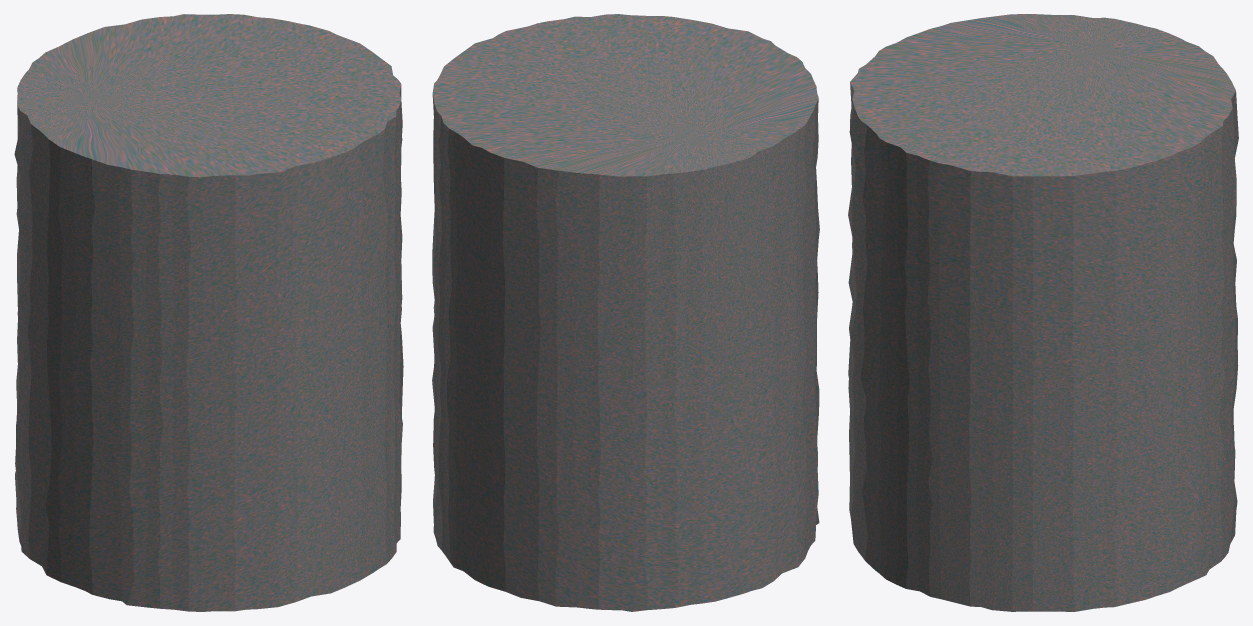
Rendered from barrel_6.dae.
3 views of the same model, side by side, from view 1: azimuth 30°, elevation 25°; view 2: azimuth 150°, elevation 25°; view 3: azimuth 270°, elevation 25° (orthographic).
Visible parts, largest first — view 1: Cylinder; view 2: Cylinder; view 3: Cylinder.
Boxes of the visible parts, box(x1,y1,x2,y2) form: Cylinder: box(14, 14, 403, 611); Cylinder: box(432, 14, 819, 611); Cylinder: box(848, 14, 1238, 611).
Bounding box in the file's own units: 0.8115 × 0.8124 × 1.
Materials: 1 (1 with a texture image).
